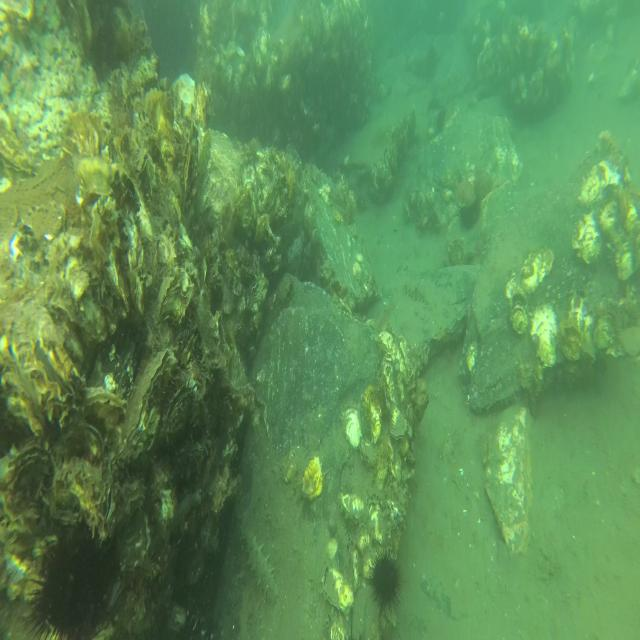echinus: (28, 527, 120, 640), (367, 546, 403, 616), (457, 200, 483, 233)
holothurian: (239, 522, 281, 609), (402, 283, 428, 303)
